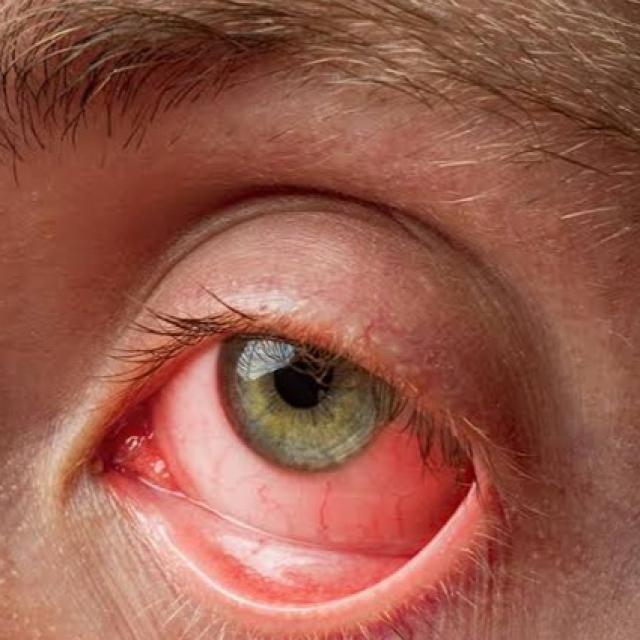Conjunctivitis: (85, 344, 458, 610)
